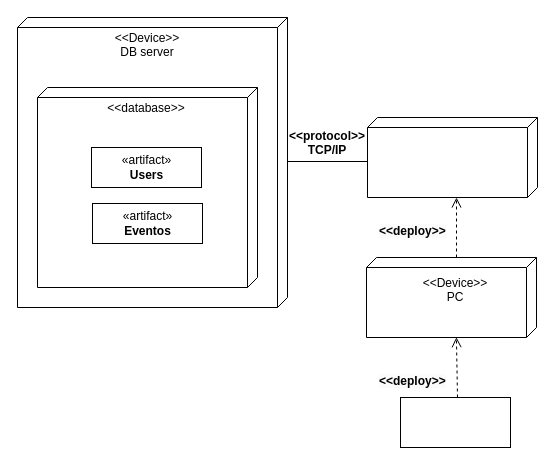
This 555x465 diagram has some shape labels left out. The centre of each missing label's shape, as x and y in pixels:
<<artifact>> schedula: point 455,422
<<executionEnvironment>> IntelliJ: point 452,157
